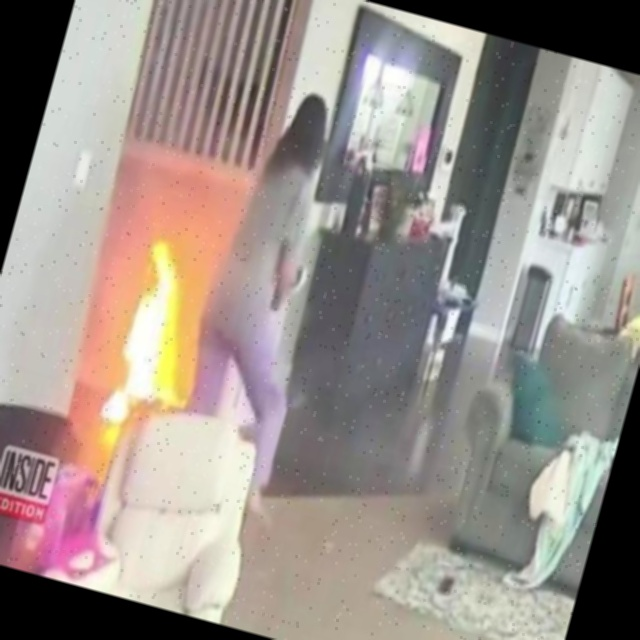fire: (70, 218, 238, 457)
